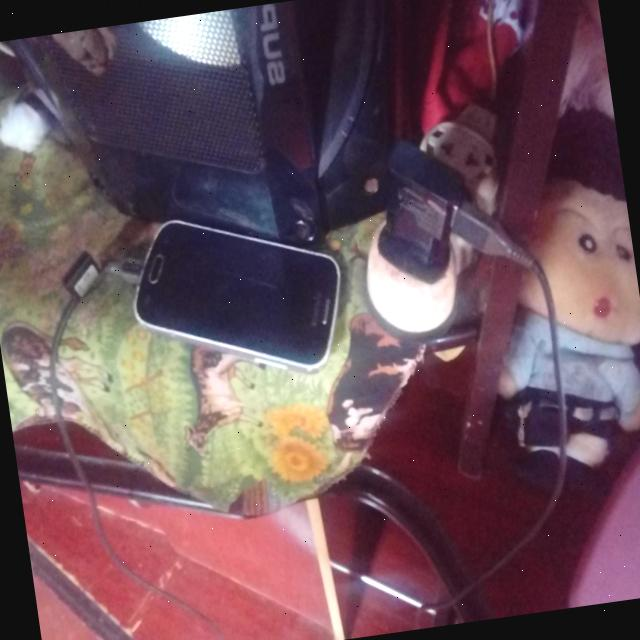Phone: (119, 195, 352, 392)
